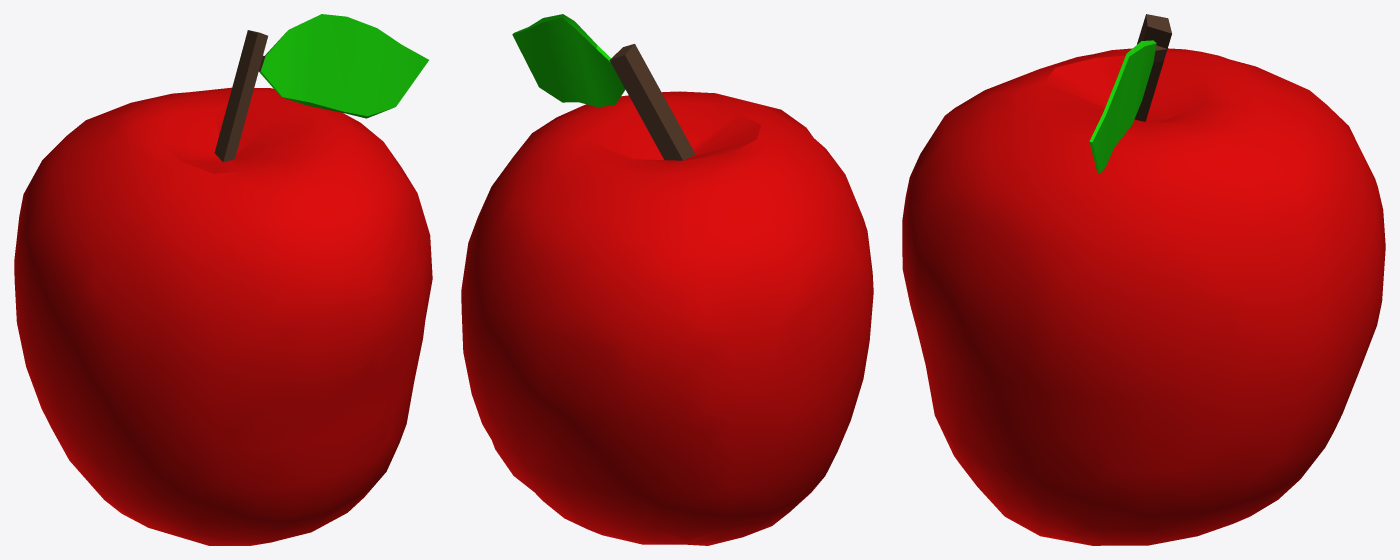
File: jablko.fbx
3 views of the same model, side by side, from view 1: azimuth 30°, elevation 25°; view 2: azimuth 150°, elevation 25°; view 3: azimuth 270°, elevation 25° (orthographic). The views are drawn at different scales.
Visible parts, largest first — view 1: Jablko; view 2: Jablko; view 3: Jablko.
Part boxes in pixels (<box>): Jablko: <box>14,14,432,545</box>; Jablko: <box>461,14,873,545</box>; Jablko: <box>902,14,1385,545</box>.
Bounding box in the file's own units: 13.25 × 17.03 × 14.09.
